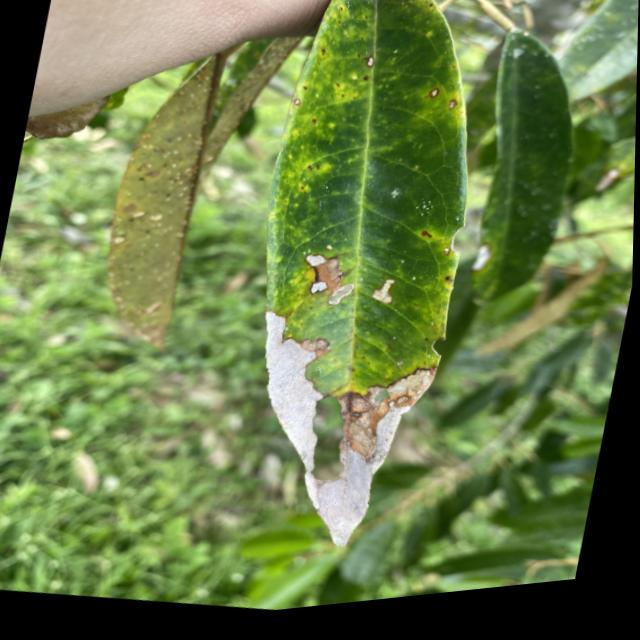Leaf Blight: (209, 281, 492, 587), (369, 275, 408, 329), (298, 250, 332, 279), (305, 283, 324, 303)
